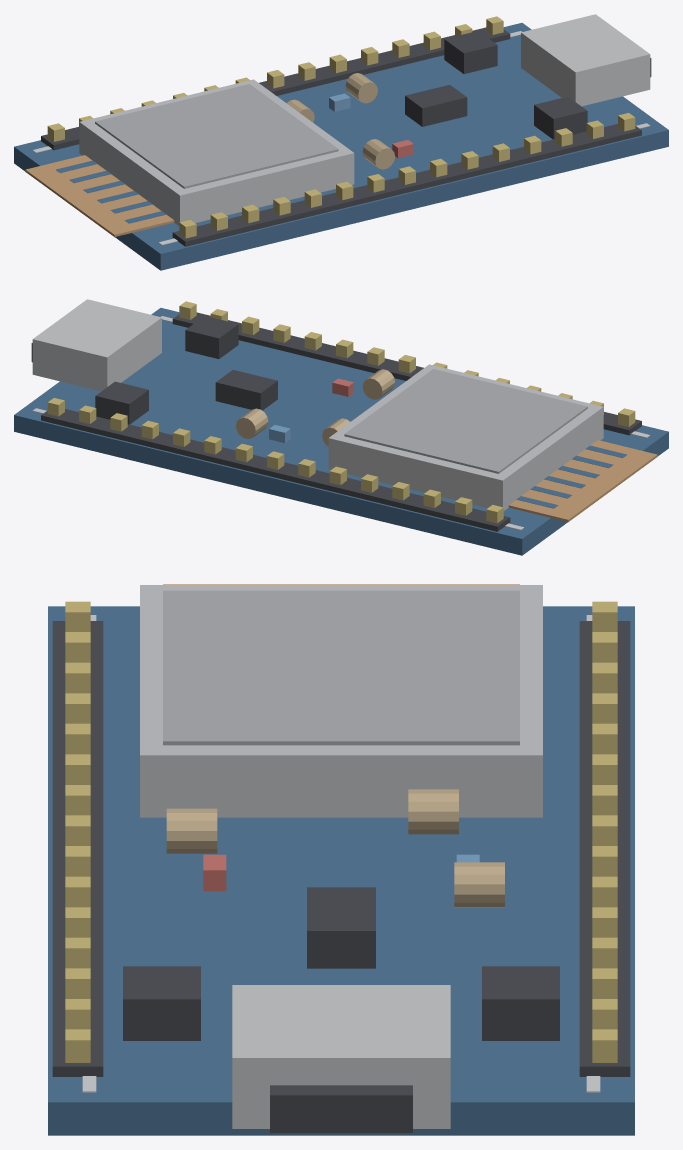
File: esp32.glb
3 views of the same model, one above another, from view 1: azimuth 30°, elevation 25°; view 2: azimuth 150°, elevation 25°; view 3: azimuth 270°, elevation 25° (orthographic). The views are drawn at different scales.
Visible parts, largest first — view 1: world; view 2: world; view 3: world.
Boxes of the visible parts, <box> form: world: <box>14,14,668,270</box>; world: <box>14,299,668,555</box>; world: <box>48,584,634,1135</box>.
Size of the model in its own units: 5.65 by 0.5 by 2.55.
